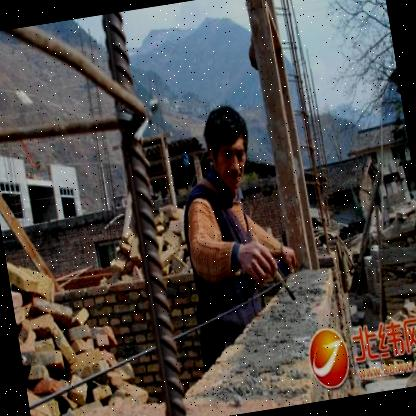sem_capacete: (200, 100, 257, 198)
sem_colete_refletivo: (175, 176, 281, 366)
